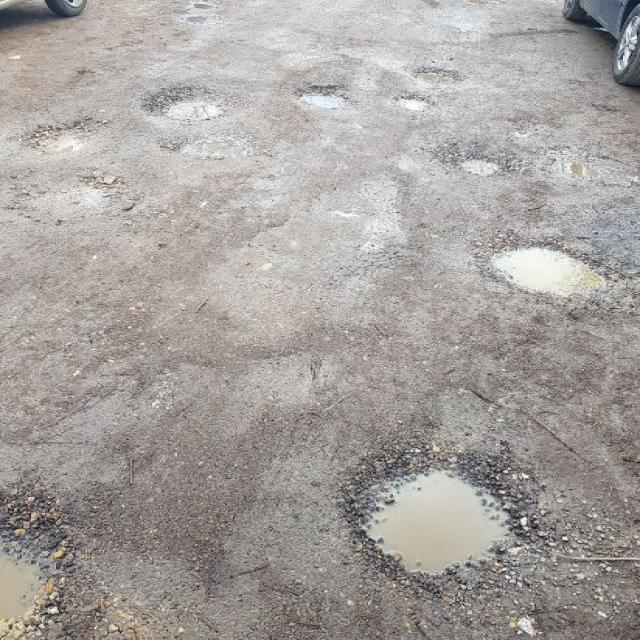pothole: (331, 442, 544, 592), (0, 477, 109, 625), (466, 237, 628, 309), (132, 79, 242, 124), (18, 110, 108, 158), (432, 145, 512, 186), (287, 82, 359, 108), (382, 88, 440, 111), (414, 65, 462, 88)
